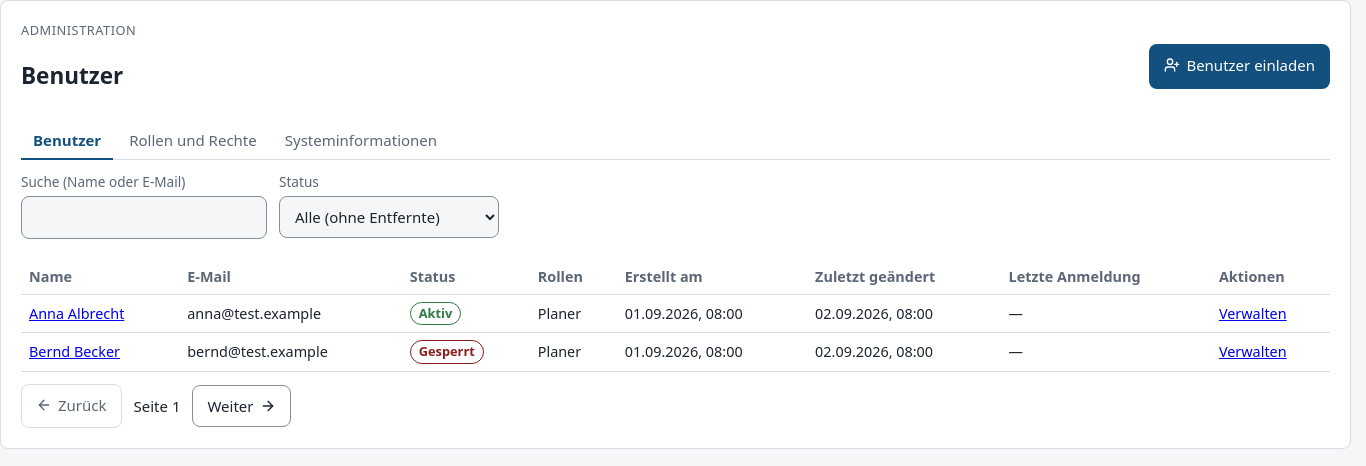
Test: Benutzerliste › sucht serverseitig und beginnt dabei wieder auf Seite 1
The width and height of the screenshot is (1366, 466).
Expected: the link "Anna Albrecht" is shown, [29,304,124,323]
Click the button "Weiter". click: (242, 406)
box: [192,385,291,427]
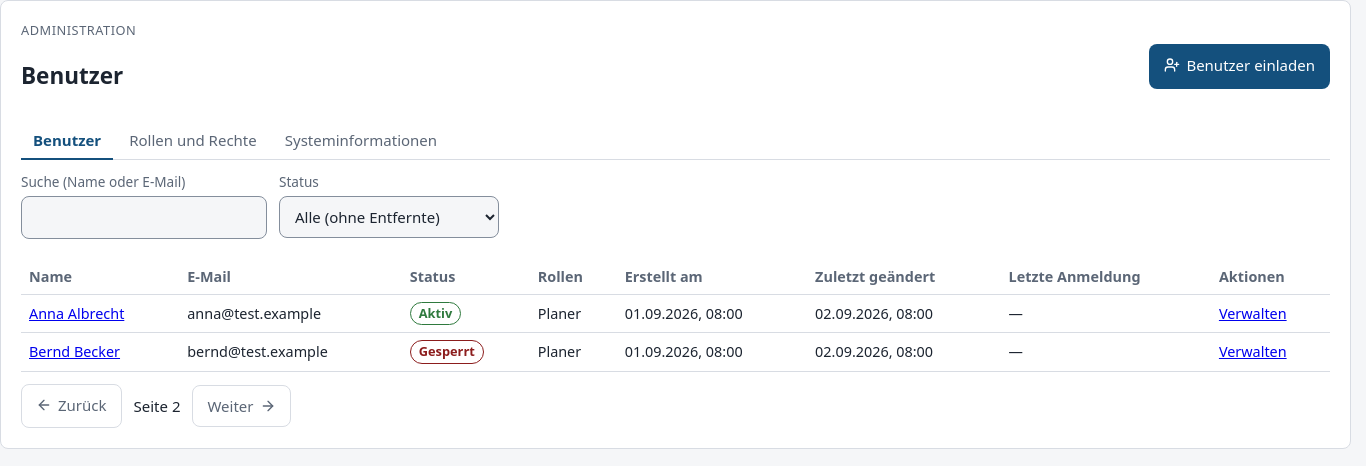
Now the text "Seite 2" is shown, box [134,395,180,417]
Type "niemand" into the search field labelled "Suche (Name oder E-Mail)". click: (144, 217)
box: [21,196,267,239]
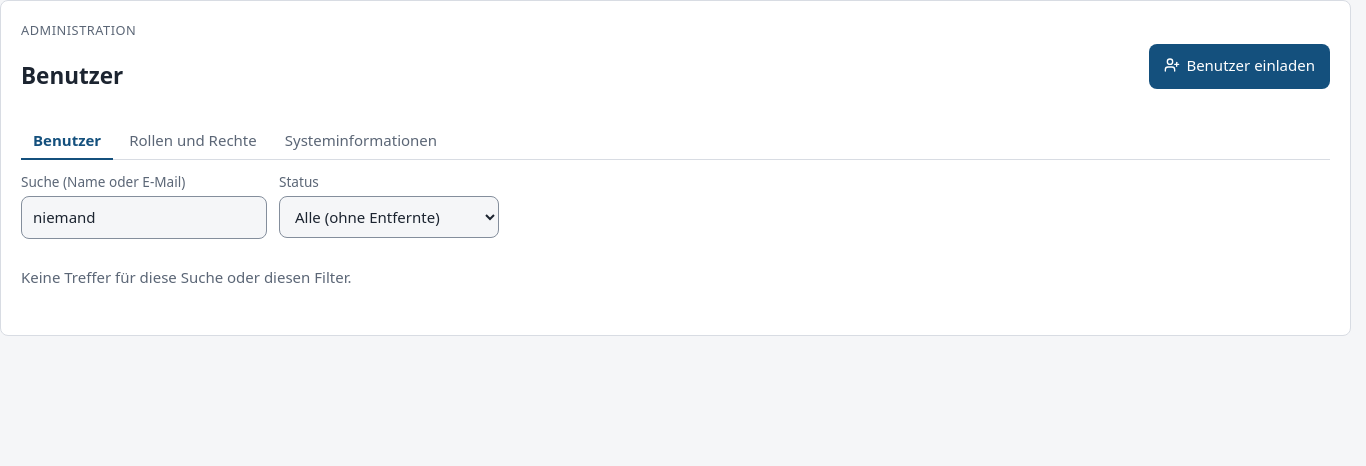
Now the text "Keine Treffer für diese Suche oder diesen Filter." is shown, box [21,267,352,287]
Now the text "Seite " is gone
